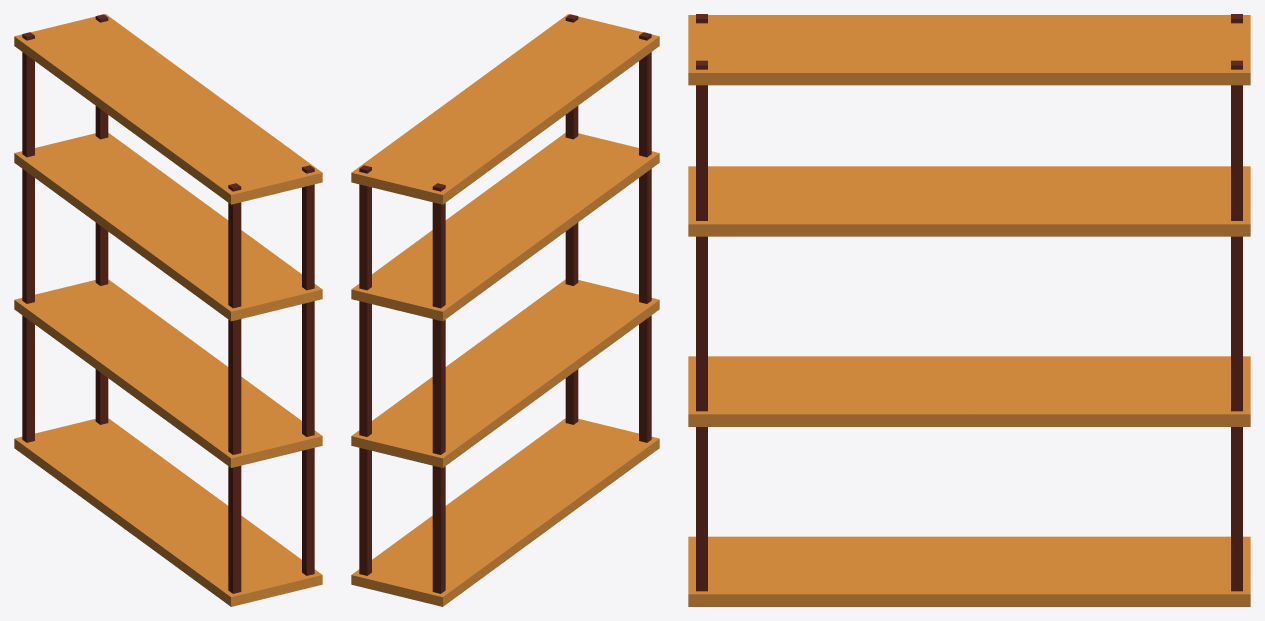
File: rack.fbx
3 views of the same model, side by side, from view 1: azimuth 30°, elevation 25°; view 2: azimuth 150°, elevation 25°; view 3: azimuth 270°, elevation 25° (orthographic). The views are drawn at different scales.
Parts seen in each view (by area): view 1: Rack; view 2: Rack; view 3: Rack.
Boxes of the visible parts, x1=… form: Rack: x1=14, y1=14, x2=322, y2=606; Rack: x1=351, y1=14, x2=659, y2=606; Rack: x1=688, y1=14, x2=1250, y2=606.
Size of the model in its own units: 141 by 611 by 578.
